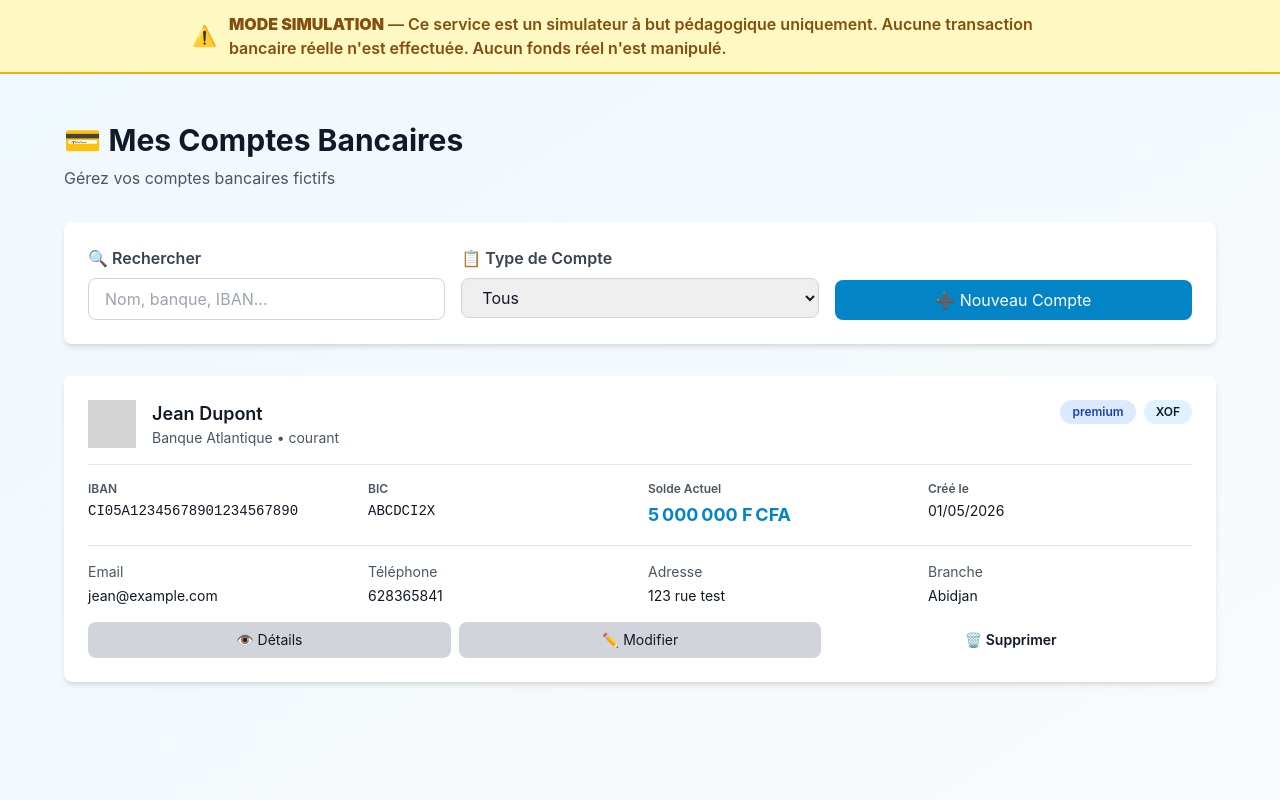
Test: BankAccountPage › Account Actions › should show delete confirmation on first delete click
Click the button "🗑️ Supprimer".
click(1011, 640)  # box [829,622,1192,658]
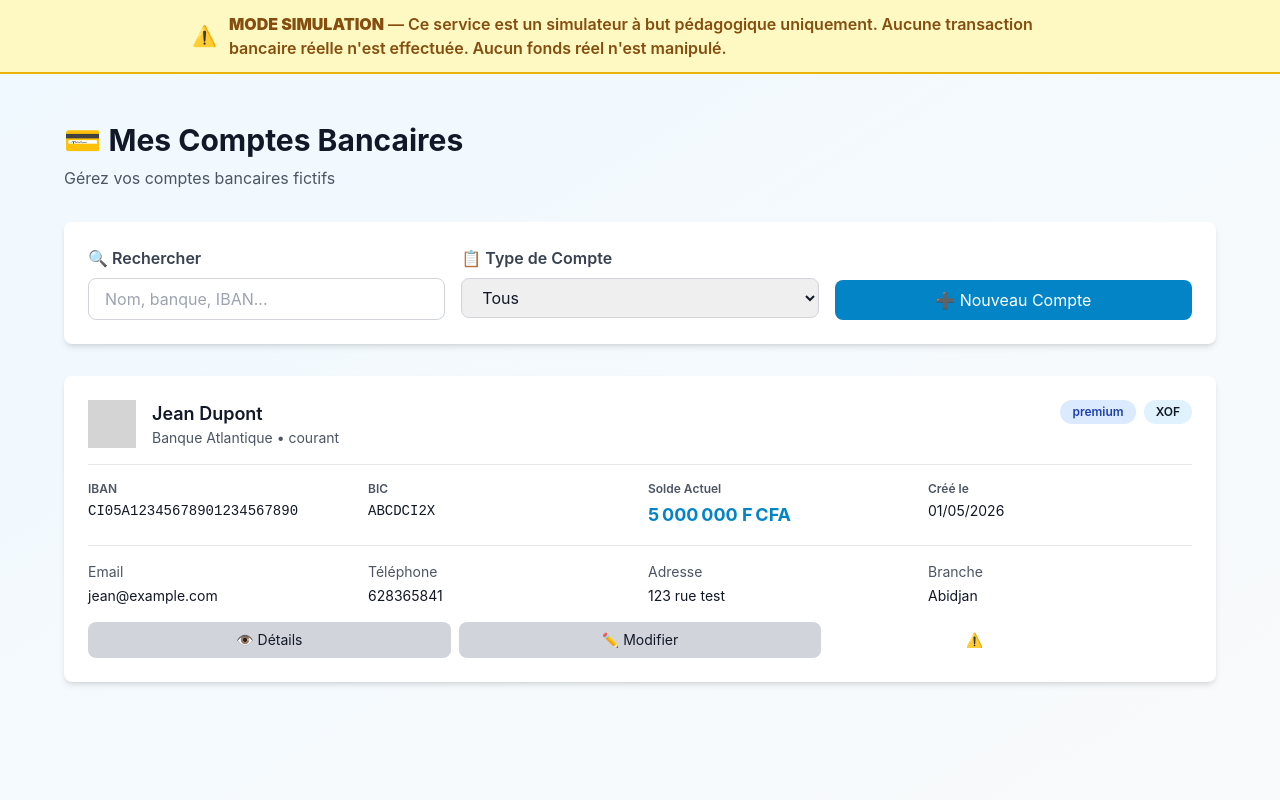
Expected: the button "⚠️ Confirmer" is shown, [829,622,1192,658]
